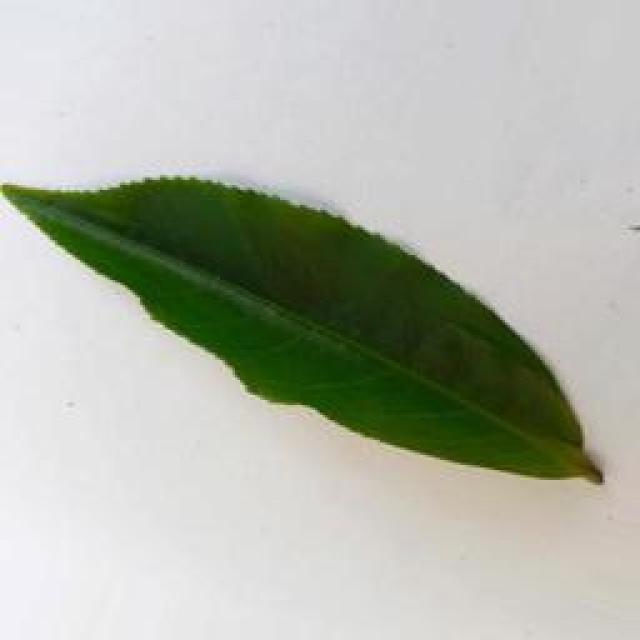Healthy: (4, 164, 616, 494)
